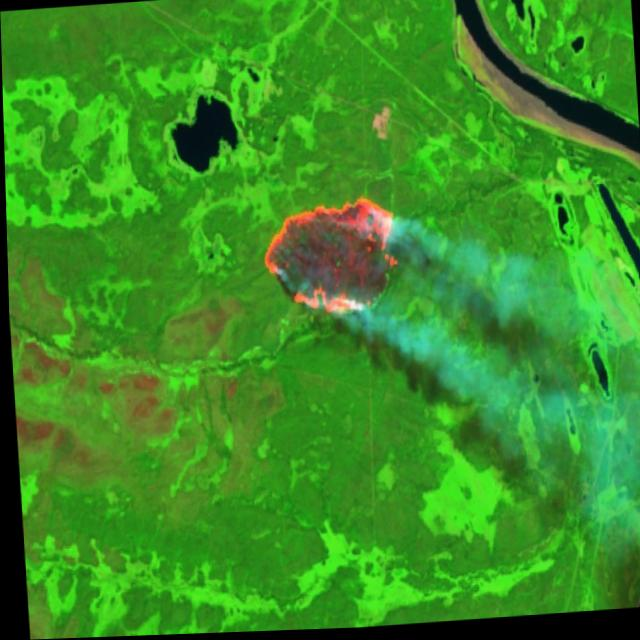fire: (252, 187, 405, 330)
